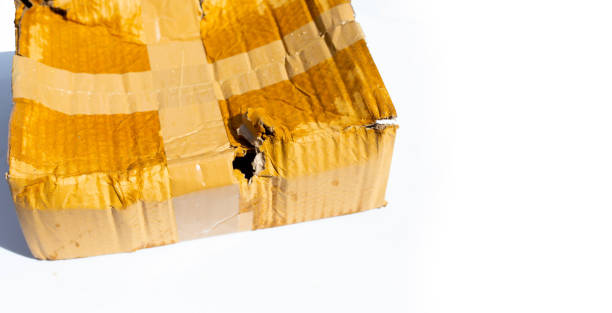damaged package: (208, 102, 296, 202), (14, 0, 83, 33), (351, 115, 399, 157)
